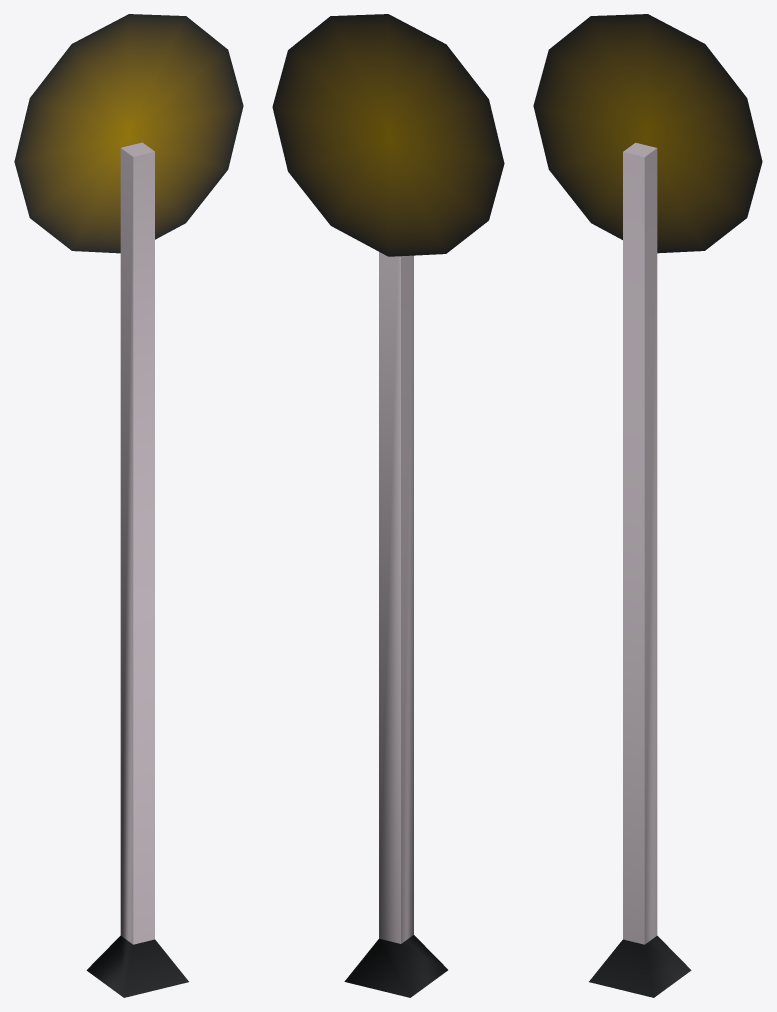
File: SM_ER_RoadSignA.fbx
3 renders of one model, left to right at view 1: azimuth 30°, elevation 25°; view 2: azimuth 150°, elevation 25°; view 3: azimuth 330°, elevation 25°, orthographic.
Parts seen in each view (by area): view 1: SM_ER_RoadSignA; view 2: SM_ER_RoadSignA; view 3: SM_ER_RoadSignA.
Boxes of the visible parts, x1,y1,x2,y2 form: SM_ER_RoadSignA: (14,14,243,997); SM_ER_RoadSignA: (272,14,504,997); SM_ER_RoadSignA: (533,14,762,997).
Size of the model in its own units: 145 by 577 by 41.26.
